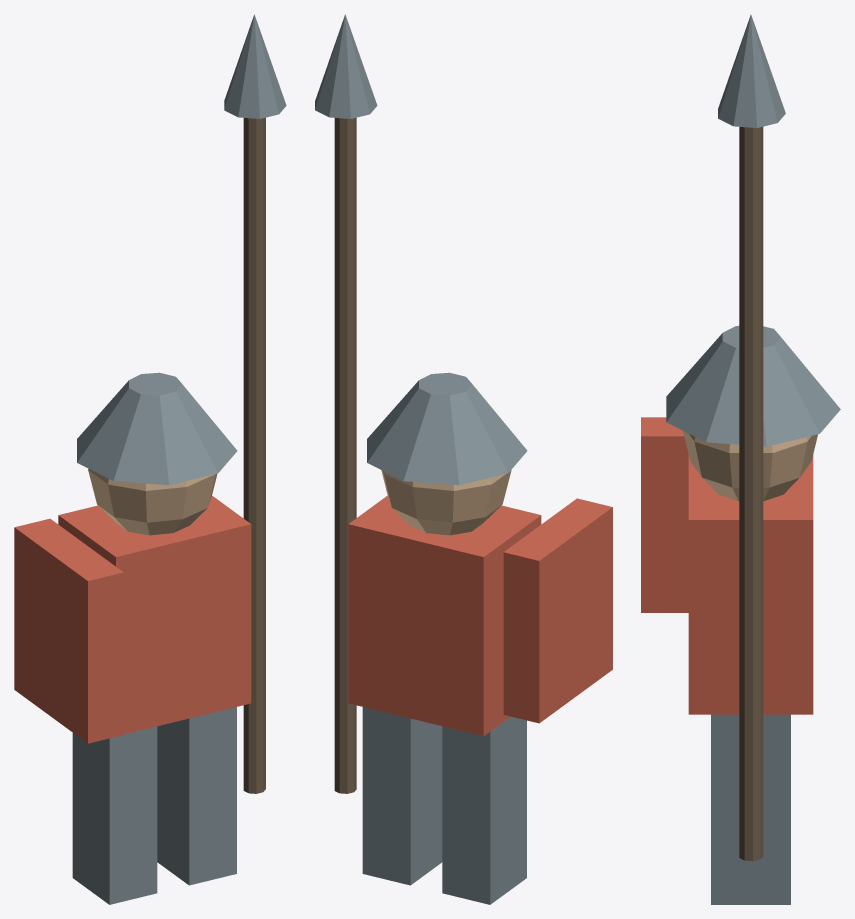
File: enemy_infantry.glb
3 views of the same model, side by side, from view 1: azimuth 30°, elevation 25°; view 2: azimuth 150°, elevation 25°; view 3: azimuth 270°, elevation 25° (orthographic). The views are drawn at different scales.
Visible parts, largest first — view 1: Tunic.002, Shield.002, Spear.002, Boot.004, Boot.005, Helmet.002, Head.002, Spear point.002; view 2: Tunic.002, Shield.002, Boot.004, Spear.002, Boot.005, Helmet.002, Head.002, Spear point.002; view 3: Tunic.002, Spear.002, Boot.005, Helmet.002, Shield.002, Head.002, Spear point.002.
Part boxes in pixels (x1,y1,x2,y2): Tunic.002: (58,495,251,734); Shield.002: (14,518,123,743); Spear.002: (243,117,265,793); Boot.004: (72,726,157,904); Boot.005: (157,707,236,885); Helmet.002: (77,372,237,485); Head.002: (88,468,217,535); Spear point.002: (224,14,286,118); Tunic.002: (348,495,541,736); Shield.002: (503,498,612,723); Boot.004: (442,716,526,904); Spear.002: (334,117,356,793); Boot.005: (362,707,442,885); Helmet.002: (367,372,527,485); Head.002: (381,470,511,535); Spear point.002: (315,14,377,118); Tunic.002: (688,455,813,714); Spear.002: (739,126,763,861); Boot.005: (711,714,790,904); Helmet.002: (666,326,840,446); Shield.002: (641,417,688,612); Head.002: (683,431,817,501); Spear point.002: (718,14,785,127).
Size of the model in its own units: 0.6139 by 2.01 by 0.4.
